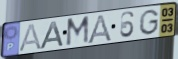6: (119, 10, 136, 40)
A: (86, 13, 114, 45), (38, 20, 66, 51), (18, 22, 43, 53)
G: (138, 9, 160, 36)
M: (65, 15, 90, 49)
